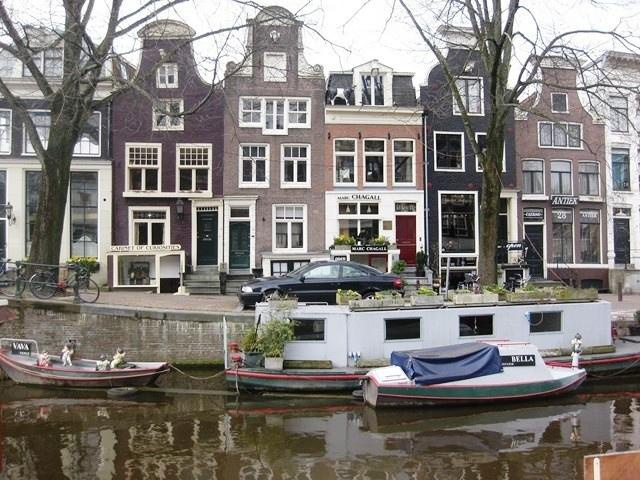non-vehicle: (27, 255, 100, 303), (0, 256, 25, 297), (502, 273, 526, 291), (456, 272, 478, 288)
